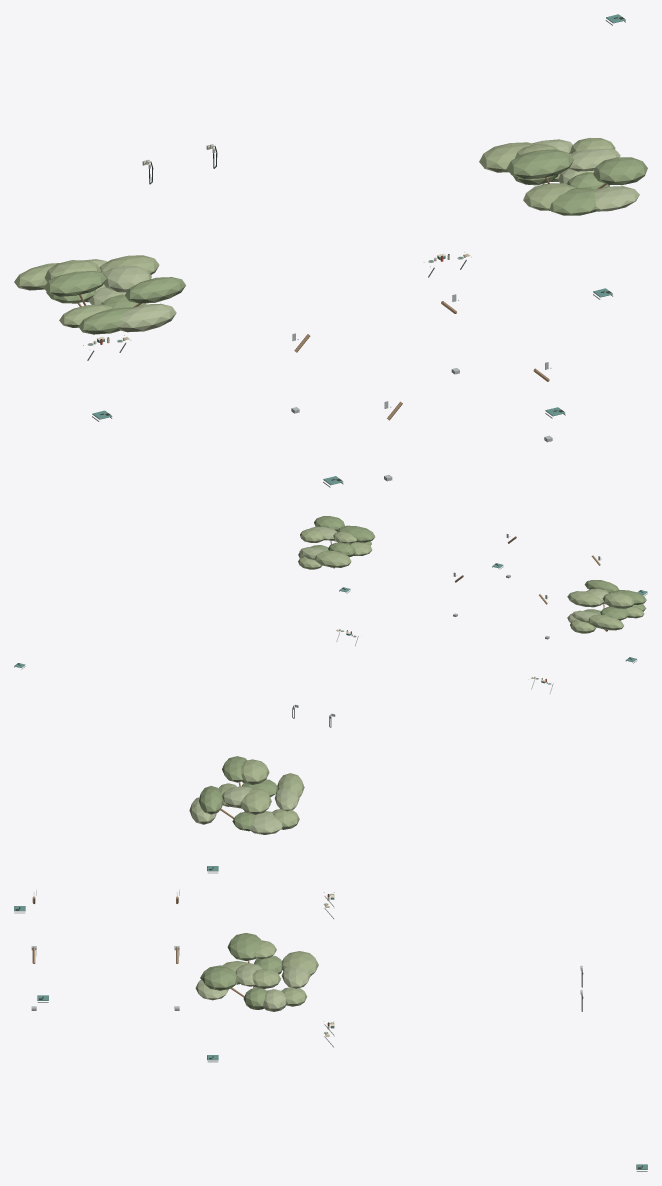
The model's file is smoko_detail_pass.glb.
3 views of the same model, one above another, from view 1: azimuth 30°, elevation 25°; view 2: azimuth 150°, elevation 25°; view 3: azimuth 270°, elevation 25° (orthographic). The views are drawn at different scales.
Parts seen in each view (by area): view 1: Smoko detail gum leaf 0.002, Smoko detail gum leaf 1.002, Smoko detail gum leaf 2.002; view 2: Smoko detail gum leaf 1.002, Smoko detail gum leaf 0.002, Smoko detail gum leaf 2.002; view 3: Smoko detail gum leaf 1.002, Smoko detail gum leaf 0.002, Smoko detail gum leaf 2.002.
Part boxes in pixels (left/top/right/bottom): Smoko detail gum leaf 0.002: left=44, top=149, right=647, bottom=334; Smoko detail gum leaf 1.002: left=14, top=137, right=615, bottom=327; Smoko detail gum leaf 2.002: left=85, top=139, right=639, bottom=332; Smoko detail gum leaf 1.002: left=298, top=528, right=644, bottom=633; Smoko detail gum leaf 0.002: left=310, top=516, right=646, bottom=620; Smoko detail gum leaf 2.002: left=298, top=526, right=608, bottom=622; Smoko detail gum leaf 1.002: left=218, top=759, right=318, bottom=1006; Smoko detail gum leaf 0.002: left=199, top=756, right=282, bottom=1009; Smoko detail gum leaf 2.002: left=189, top=786, right=310, bottom=1011.
Bounding box in the file's own units: 41.81 × 7.4 × 35.45.
